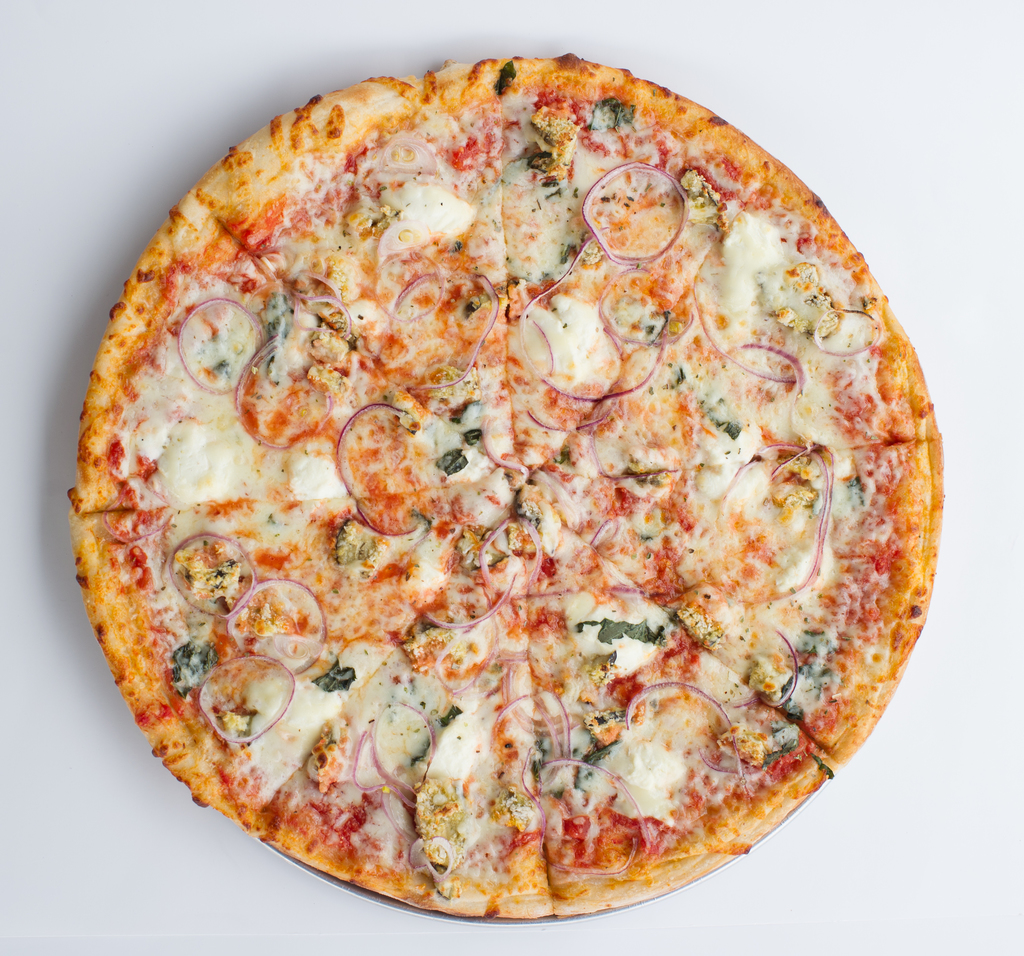Pizza: (65, 44, 944, 919)
